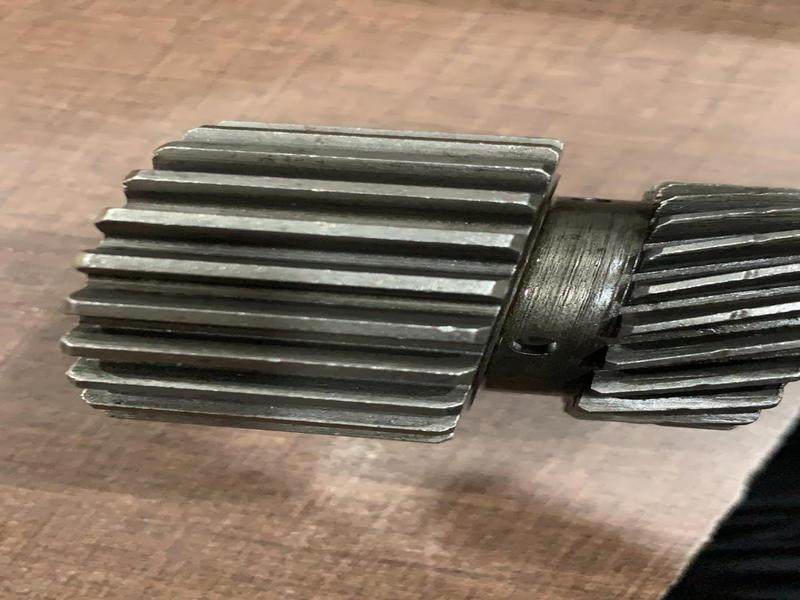engine gear ape: (90, 107, 792, 473)
